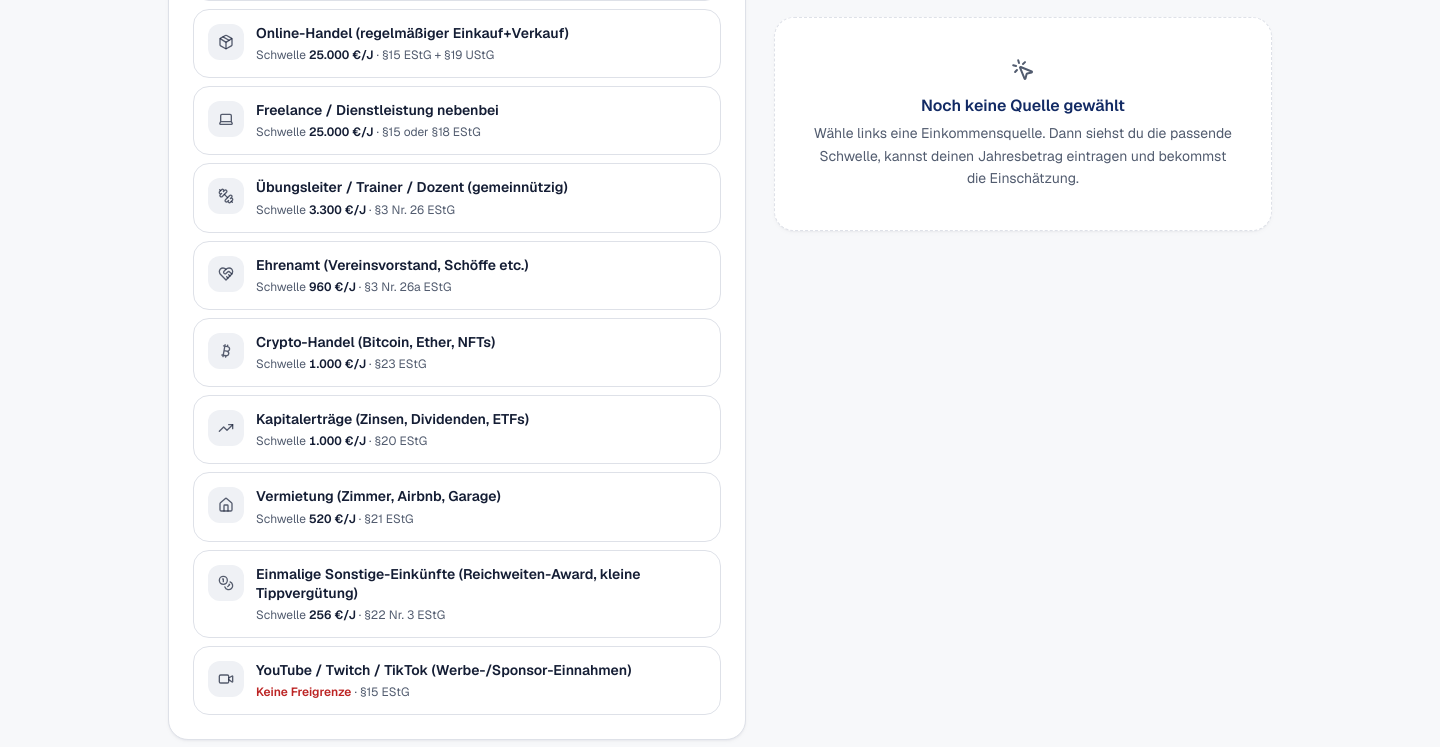
Test case: SchwellenCheck — Schwelle-Verdict mit Eingabe-Betrag › Warnung bei 85% Annäherung an Freigrenze (Crypto bei 900€)
(page scrolled)
Click the text "Crypto-Handel (Bitcoin, Ether, NFTs)": (376, 342) [256, 333, 495, 351]
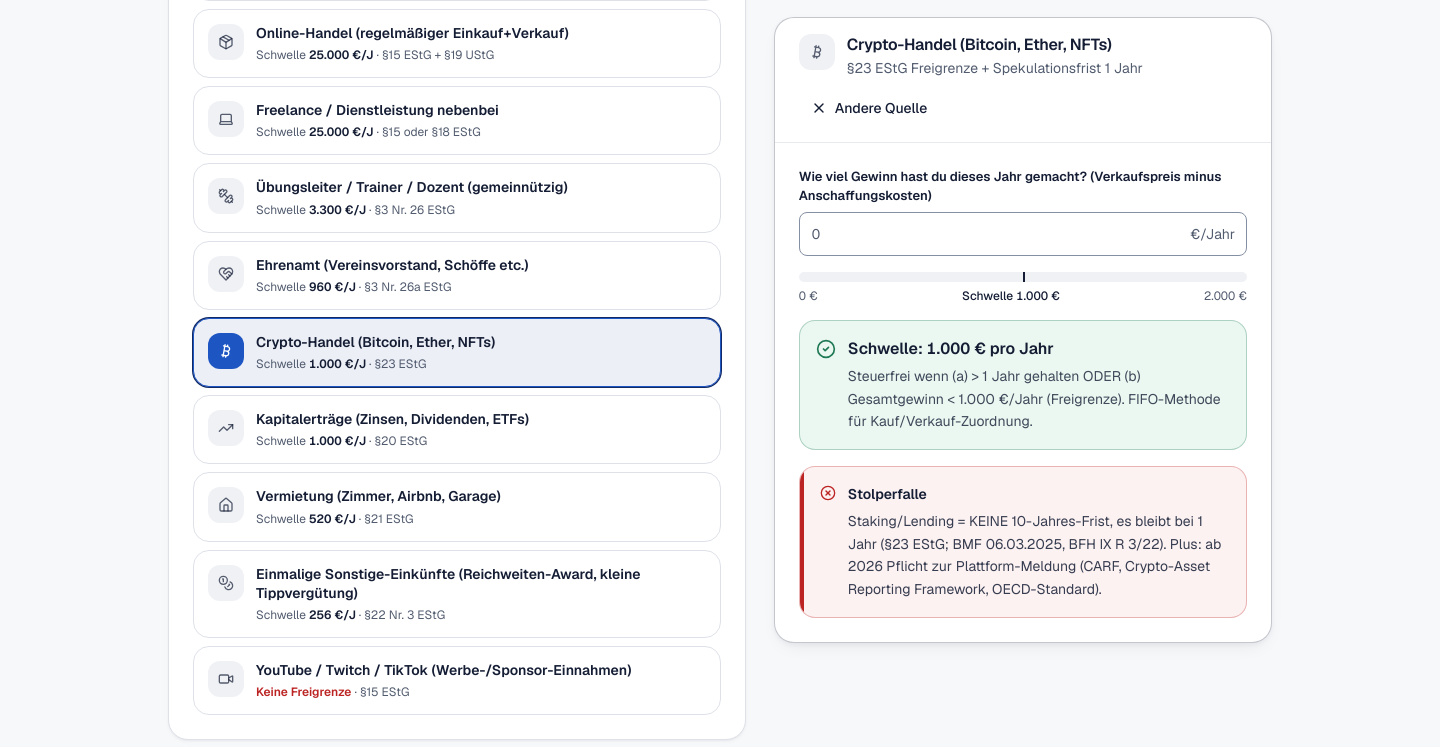
In the number field: (1023, 234) [799, 212, 1247, 256], type "900"
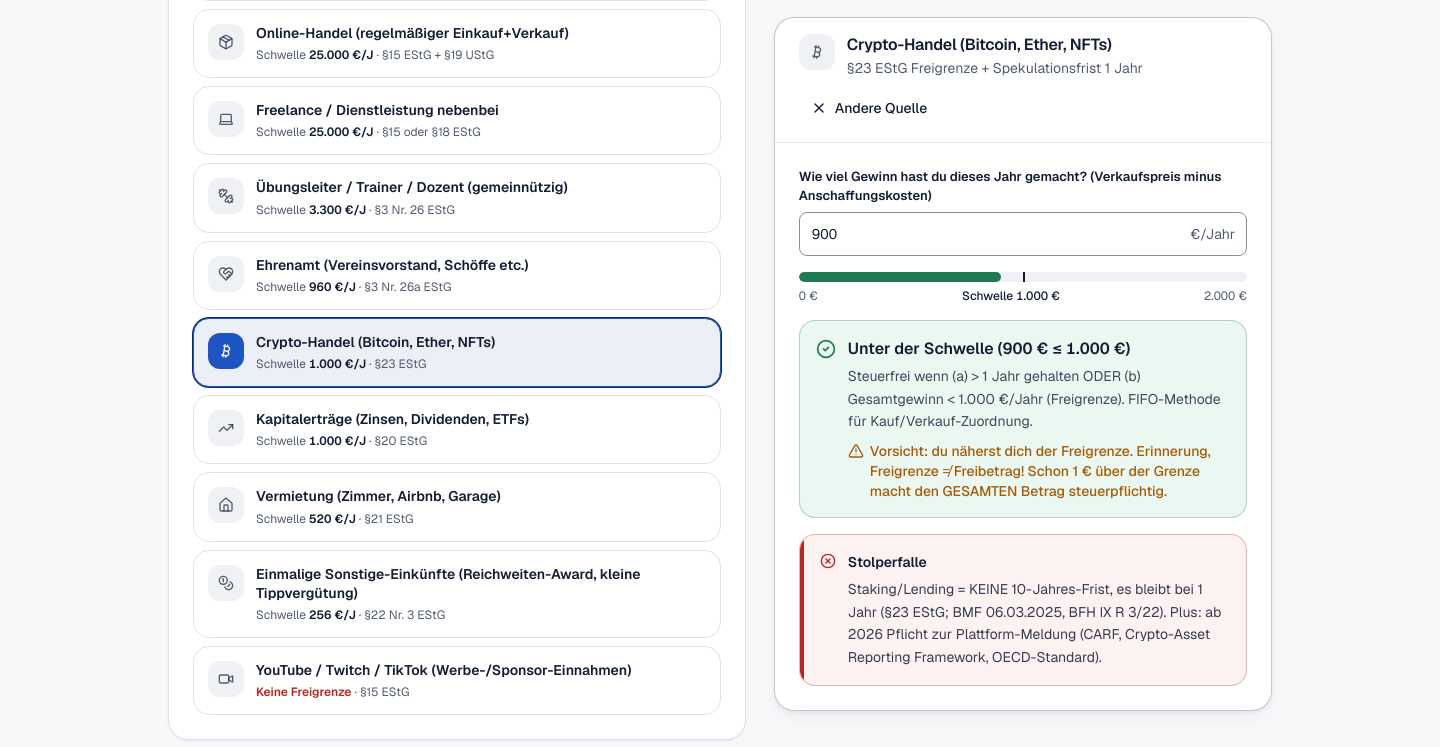
Now the text "du näherst dich der Freigrenze" is shown, box [870, 442, 1211, 500]
